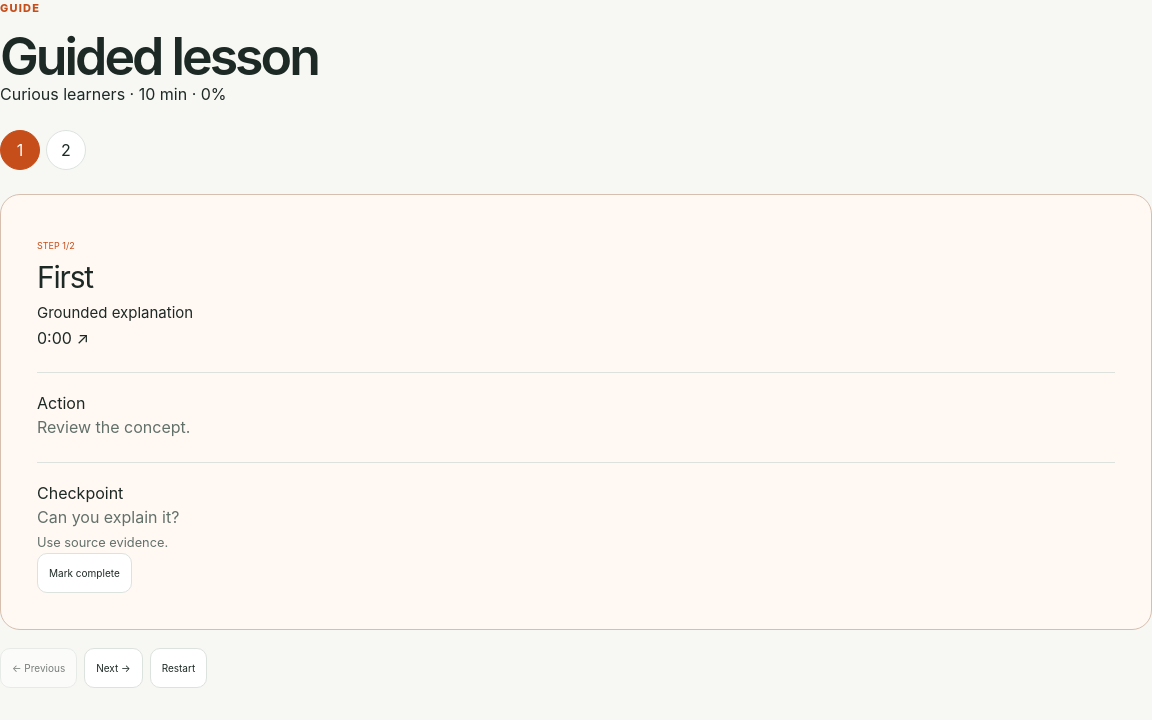
it: structured artifact views › supports guide progress, quiz feedback, local restore, and keyboard paging
Click the button "Mark complete": (84, 573) [37,553,132,593]
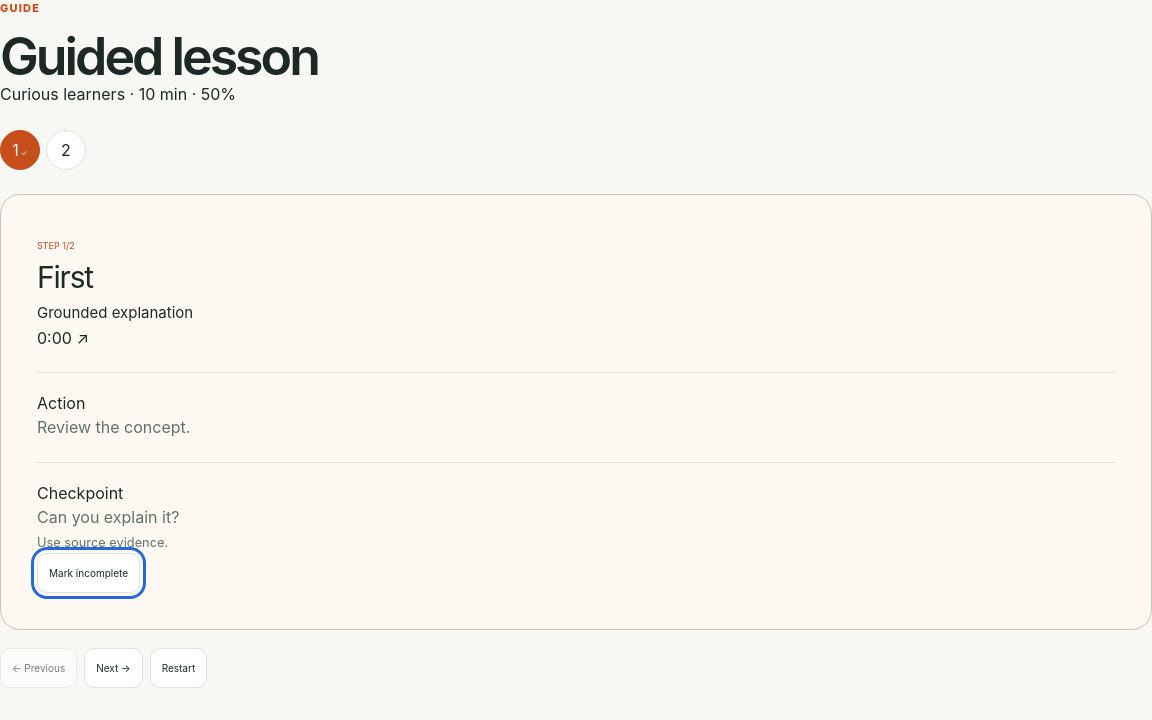
Press ArrowRight
(page scrolled)
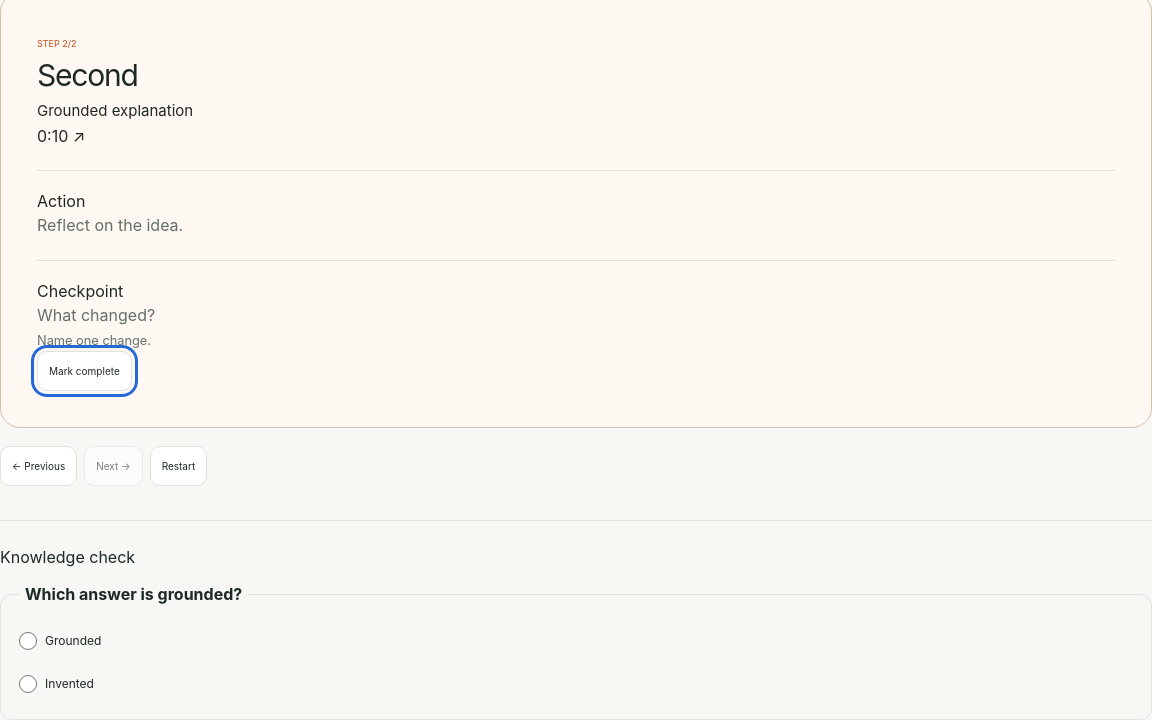
Check: the heading "Second" is shown, box [37,57,138,93]
Click the radio button labelled "Grounded": (28, 641) [19,632,37,650]
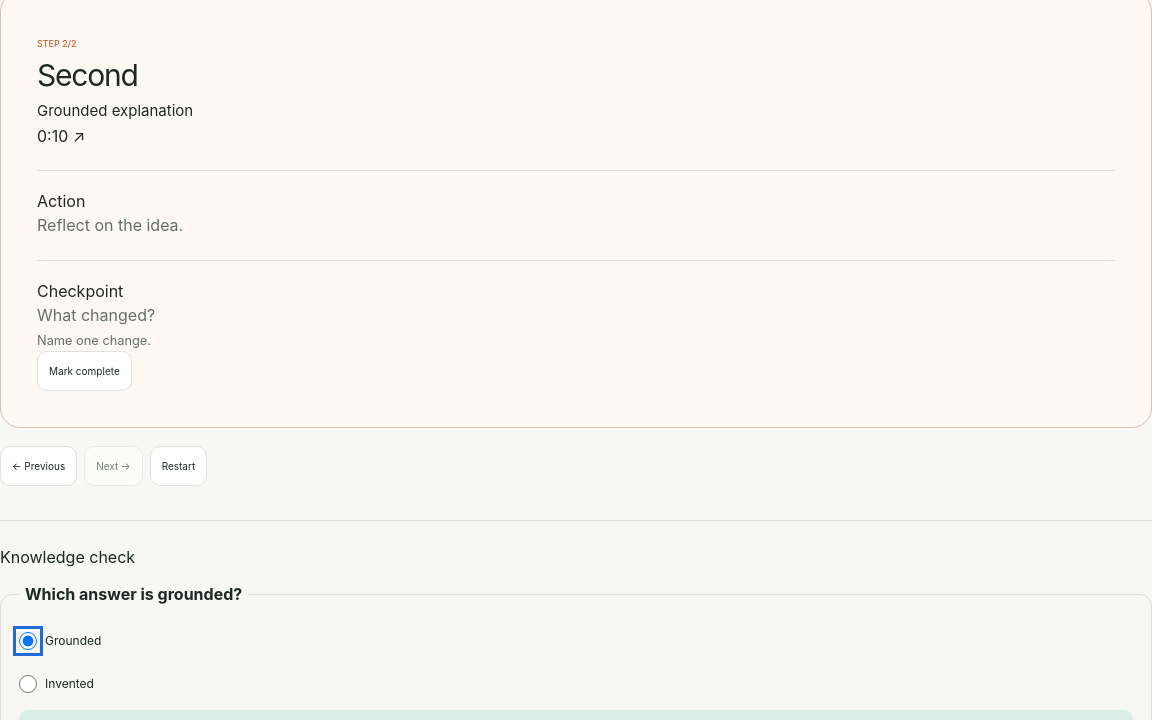
Click the button "Restart": (178, 466) [150,446,207,486]
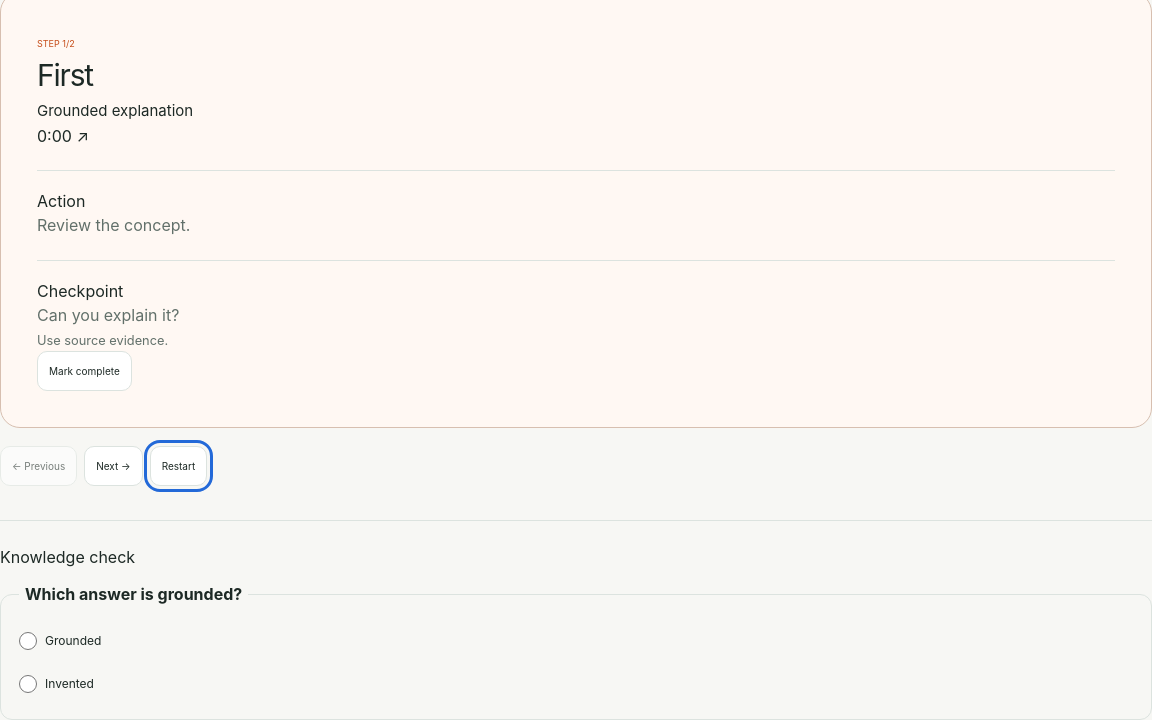
Check: the heading "First" is shown, box [37,57,93,93]
